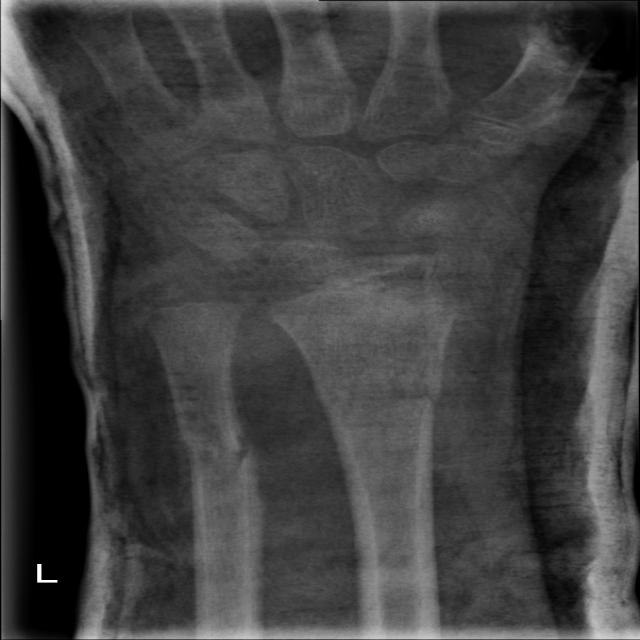radius fracture: (310, 358, 470, 470)
ulna fracture: (154, 407, 285, 523)
